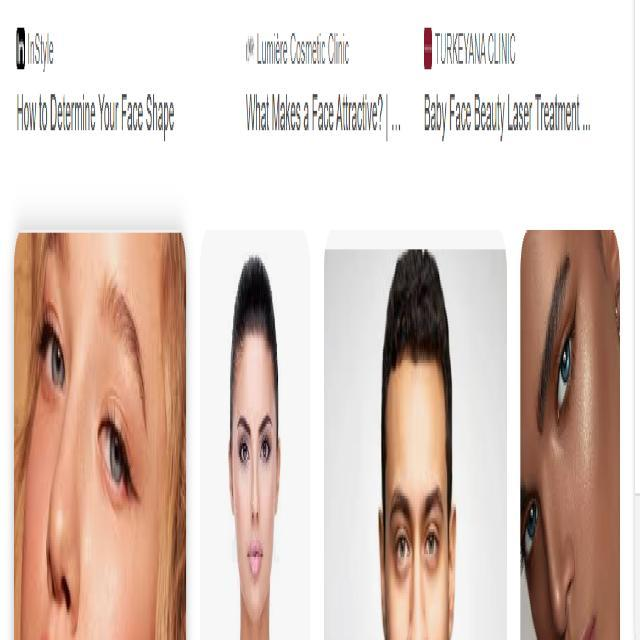face_no_mask: (22, 222, 160, 638), (522, 241, 618, 628), (380, 379, 458, 640), (229, 311, 282, 598)
